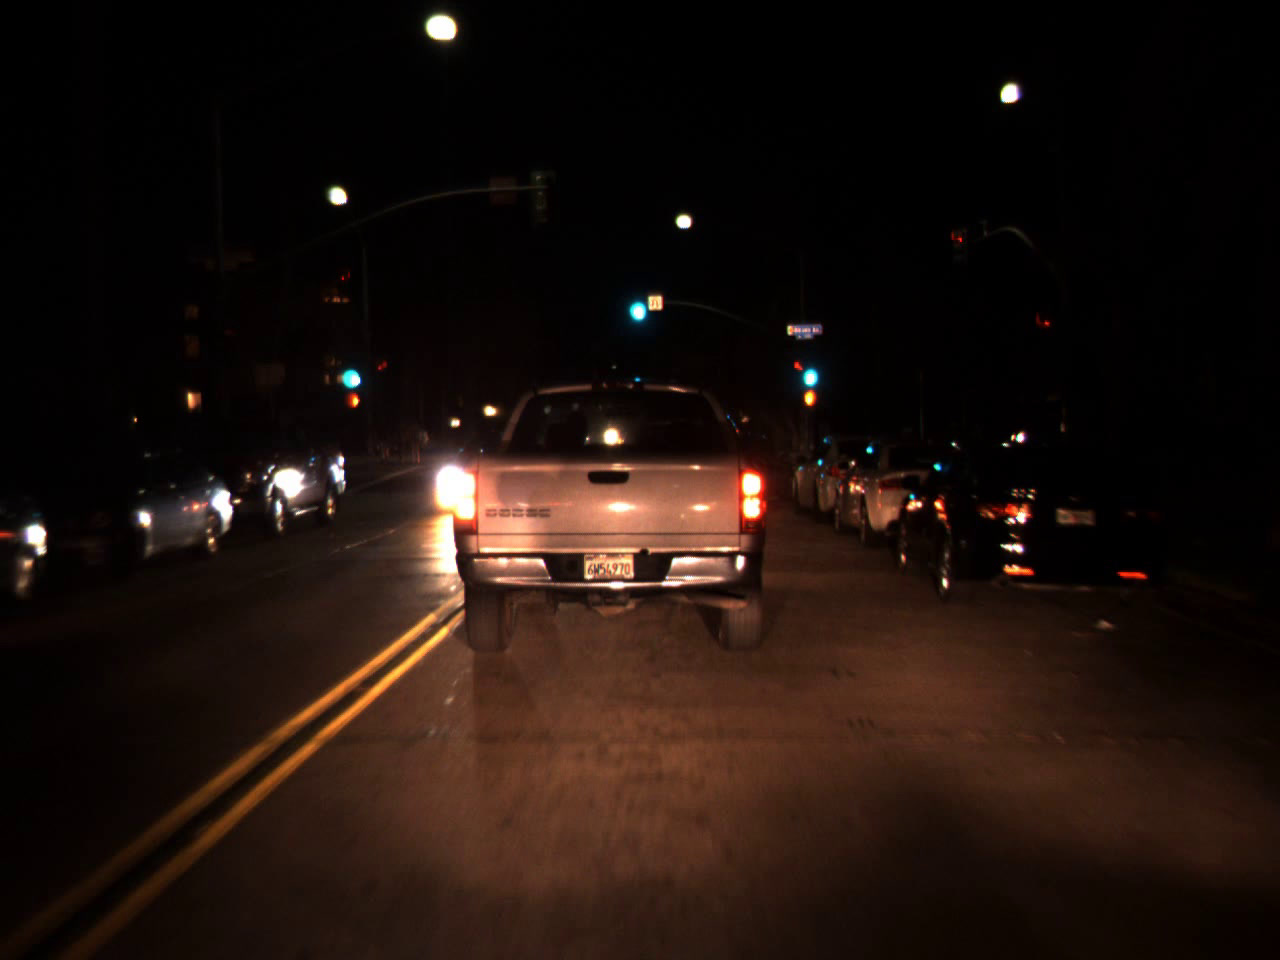go: (622, 277, 649, 328), (337, 347, 362, 395), (797, 346, 820, 394)
